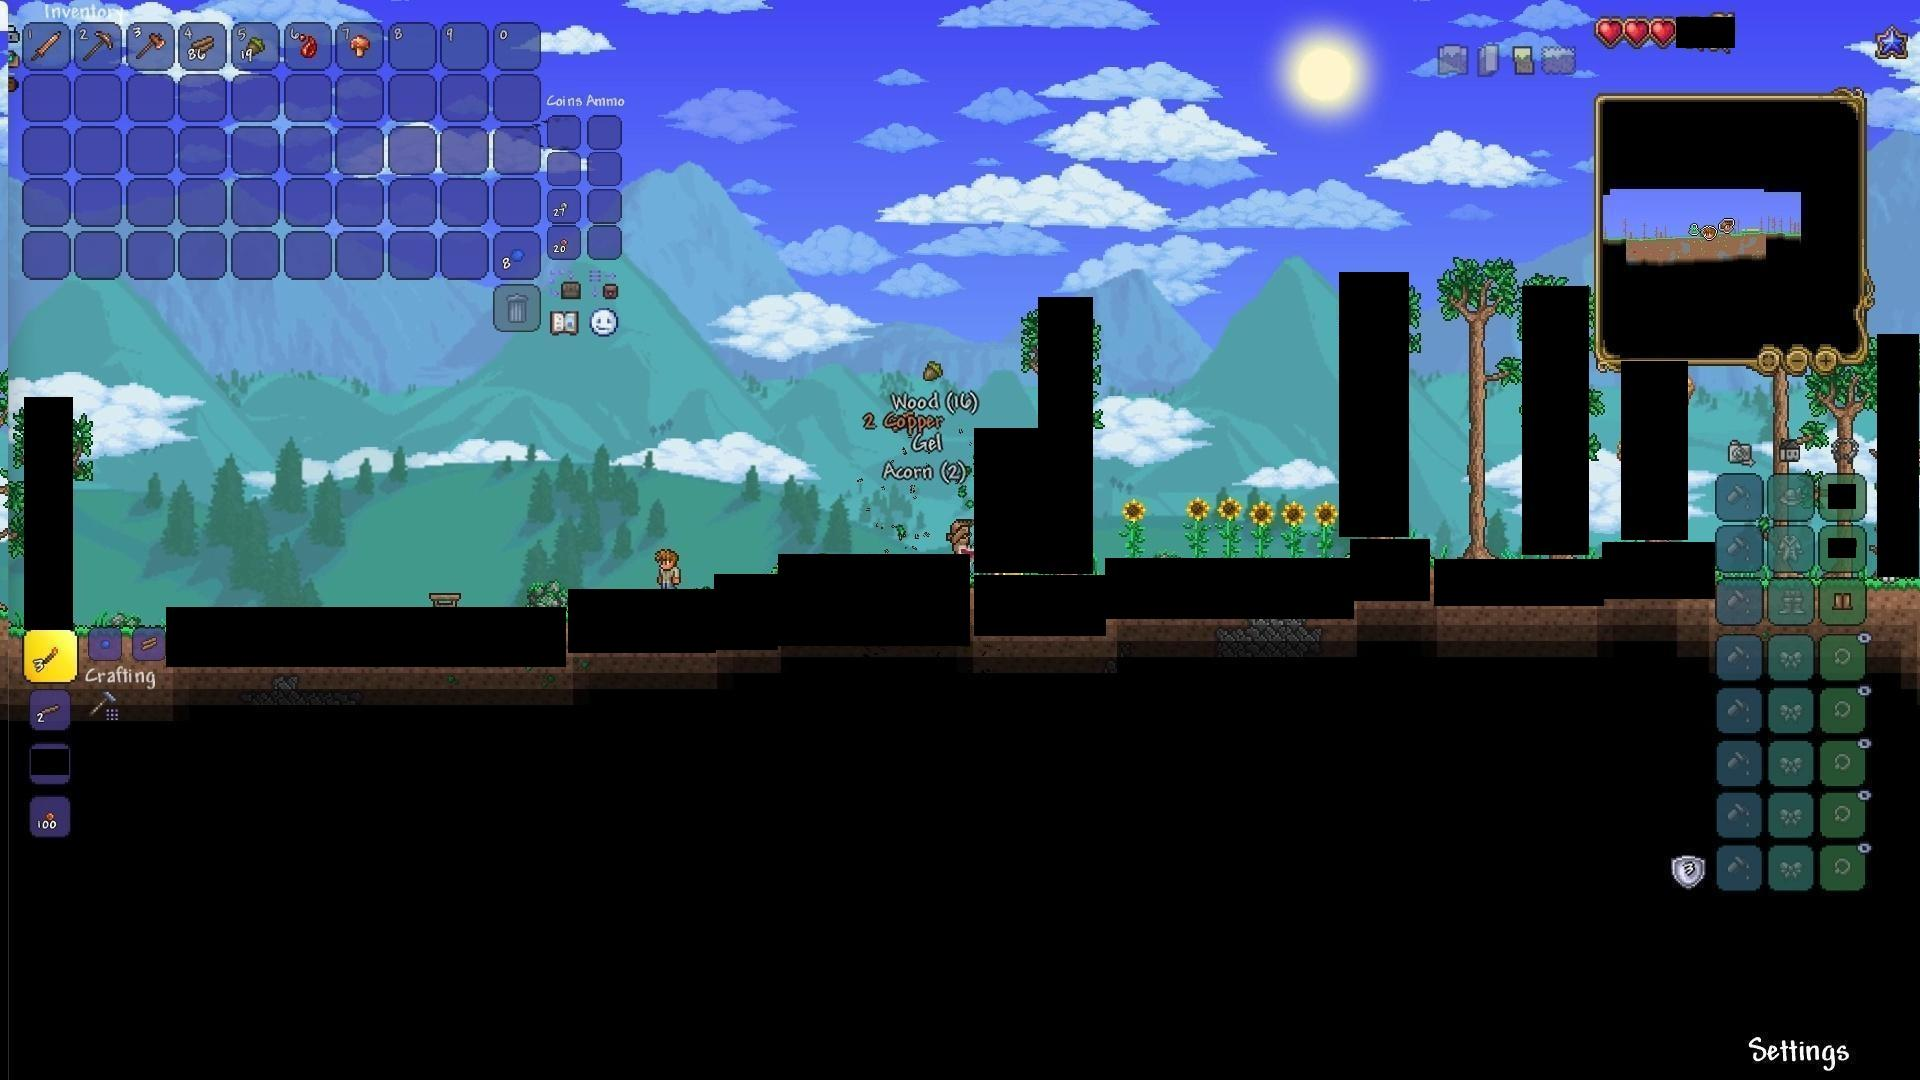dirt: (0, 596, 22, 641)
heart: (1592, 15, 1625, 44), (1648, 16, 1676, 46), (1623, 13, 1650, 44)
legs: (1832, 588, 1855, 615)
tree: (1440, 255, 1505, 556), (1, 397, 24, 638)
wood: (187, 32, 218, 59), (135, 629, 165, 655)
workbench: (422, 587, 463, 613)
